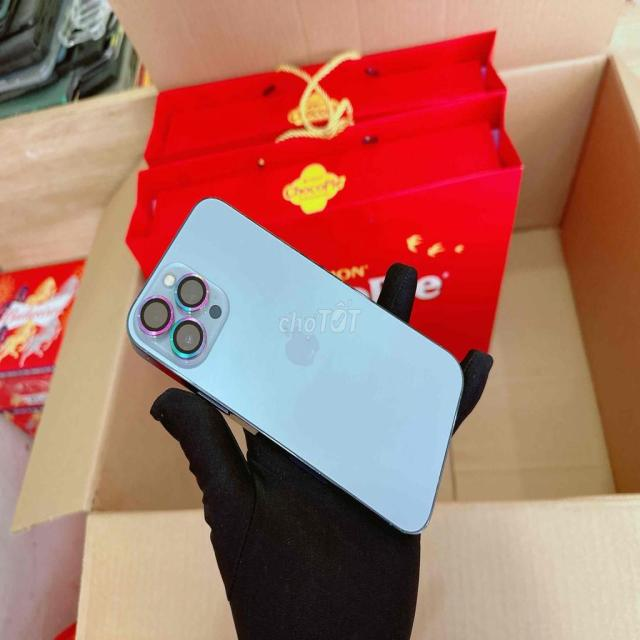gen_12_13: (126, 194, 466, 536)
